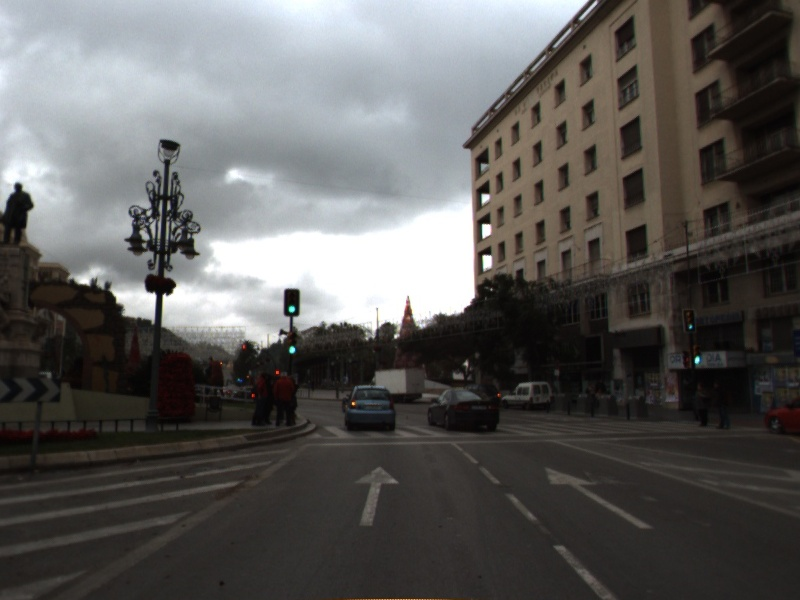STRAIGHT: (544, 465, 657, 531), (352, 464, 402, 529)
